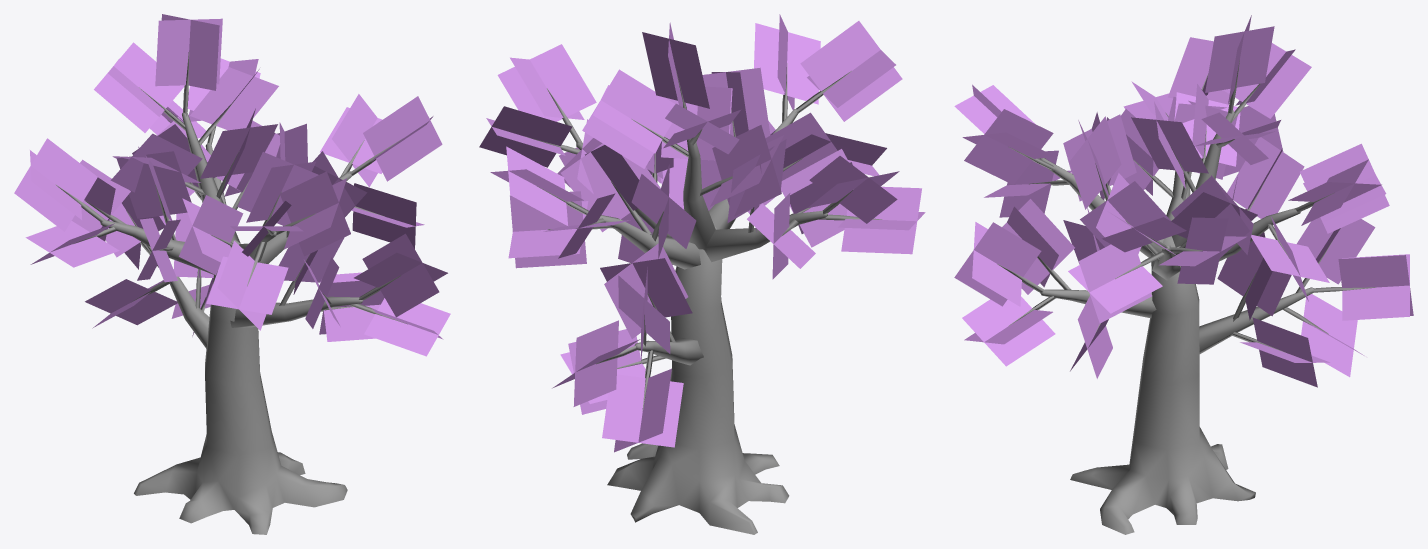
Rendered from tree.FBX.
3 views of the same model, side by side, from view 1: azimuth 30°, elevation 25°; view 2: azimuth 150°, elevation 25°; view 3: azimuth 270°, elevation 25° (orthographic). The views are drawn at different scales.
Parts seen in each view (by area): view 1: trunk, Leaves027, Leaves043, Leaves112, Leaves008, Leaves054, Leaves097, Leaves050, Leaves048, Leaves084, Leaves018, Leaves011 (+48 smaller); view 2: trunk, Leaves111, Leaves009, Leaves061, Leaves082, Leaves007, Leaves072, Leaves059, Leaves045, Leaves030, Leaves131, Leaves027 (+57 smaller); view 3: trunk, Leaves (×2), Leaves105, Leaves053, Leaves040, Leaves015, Leaves034, Leaves044, Leaves002, Leaves014, Leaves019, Leaves063 (+59 smaller).
Part boxes in pixels (<box>): trunk: <box>134,240,347,534</box>; Leaves027: <box>14,138,97,231</box>; Leaves043: <box>94,42,184,132</box>; Leaves112: <box>190,67,278,130</box>; Leaves008: <box>374,96,442,176</box>; Leaves054: <box>364,298,450,356</box>; Leaves097: <box>14,138,97,231</box>; Leaves050: <box>362,233,438,317</box>; Leaves048: <box>200,124,277,178</box>; Leaves084: <box>280,171,350,250</box>; Leaves018: <box>179,195,243,274</box>; Leaves011: <box>206,256,288,314</box>; trunk: <box>607,225,789,534</box>; Leaves111: <box>582,69,675,168</box>; Leaves009: <box>800,21,901,121</box>; Leaves061: <box>603,374,683,446</box>; Leaves082: <box>754,23,820,104</box>; Leaves007: <box>497,44,596,107</box>; Leaves072: <box>479,106,572,167</box>; Leaves059: <box>573,320,618,406</box>; Leaves045: <box>713,125,781,216</box>; Leaves030: <box>510,191,586,268</box>; Leaves131: <box>602,381,681,447</box>; Leaves027: <box>813,156,897,223</box>; trunk: <box>1070,236,1255,534</box>; Leaves (×2): <box>1068,244,1159,312</box>; Leaves105: <box>1227,137,1304,218</box>; Leaves053: <box>962,296,1055,366</box>; Leaves040: <box>1205,26,1274,92</box>; Leaves015: <box>1070,116,1121,209</box>; Leaves034: <box>1300,143,1389,233</box>; Leaves044: <box>1229,45,1311,118</box>; Leaves002: <box>1177,217,1228,284</box>; Leaves014: <box>965,109,1053,163</box>; Leaves019: <box>1168,37,1229,104</box>; Leaves063: <box>1313,219,1375,284</box>.
Bounding box in the file's own units: 135 × 135 × 148.
